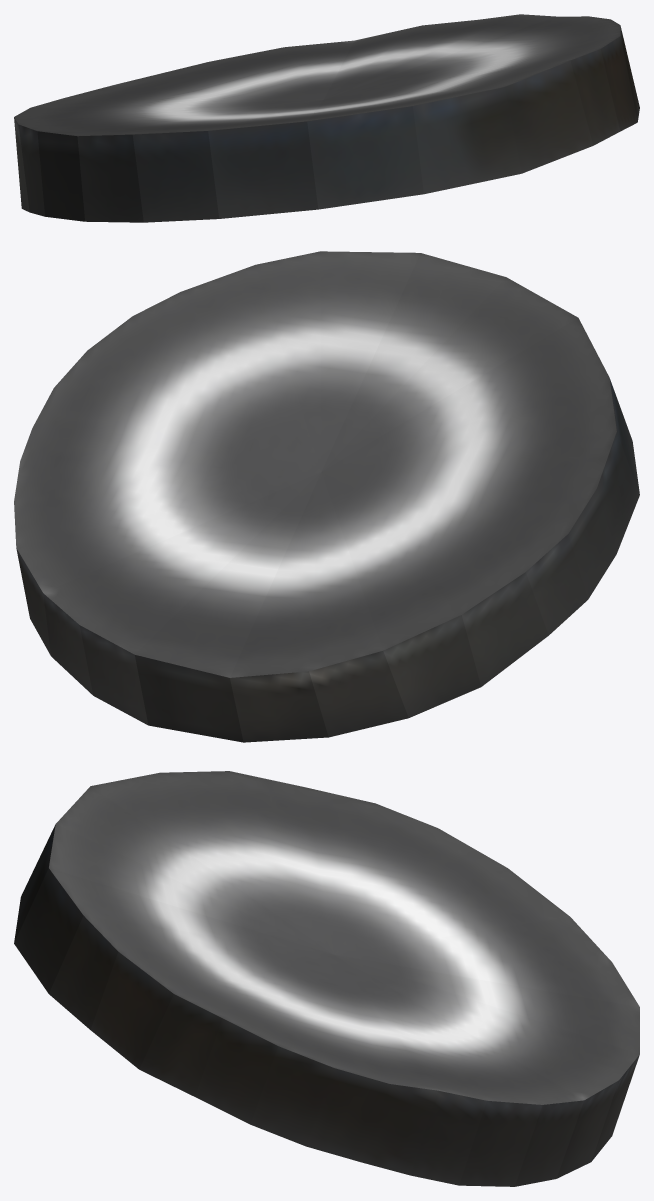
File: YVR_d3_left_home.obj
3 renders of one model, top to bottom at view 1: azimuth 30°, elevation 25°; view 2: azimuth 150°, elevation 25°; view 3: azimuth 270°, elevation 25°, orthographic.
Parts seen in each view (by area): view 1: yvr_d3_left_home; view 2: yvr_d3_left_home; view 3: yvr_d3_left_home.
Part boxes in pixels (x1,y1,x2,y2): yvr_d3_left_home: [14, 14, 639, 222]; yvr_d3_left_home: [14, 251, 639, 742]; yvr_d3_left_home: [14, 771, 639, 1186].
Bounding box in the file's own units: 0.0092 × 0.0043 × 0.009.
Materials: 1 (1 with a texture image).
